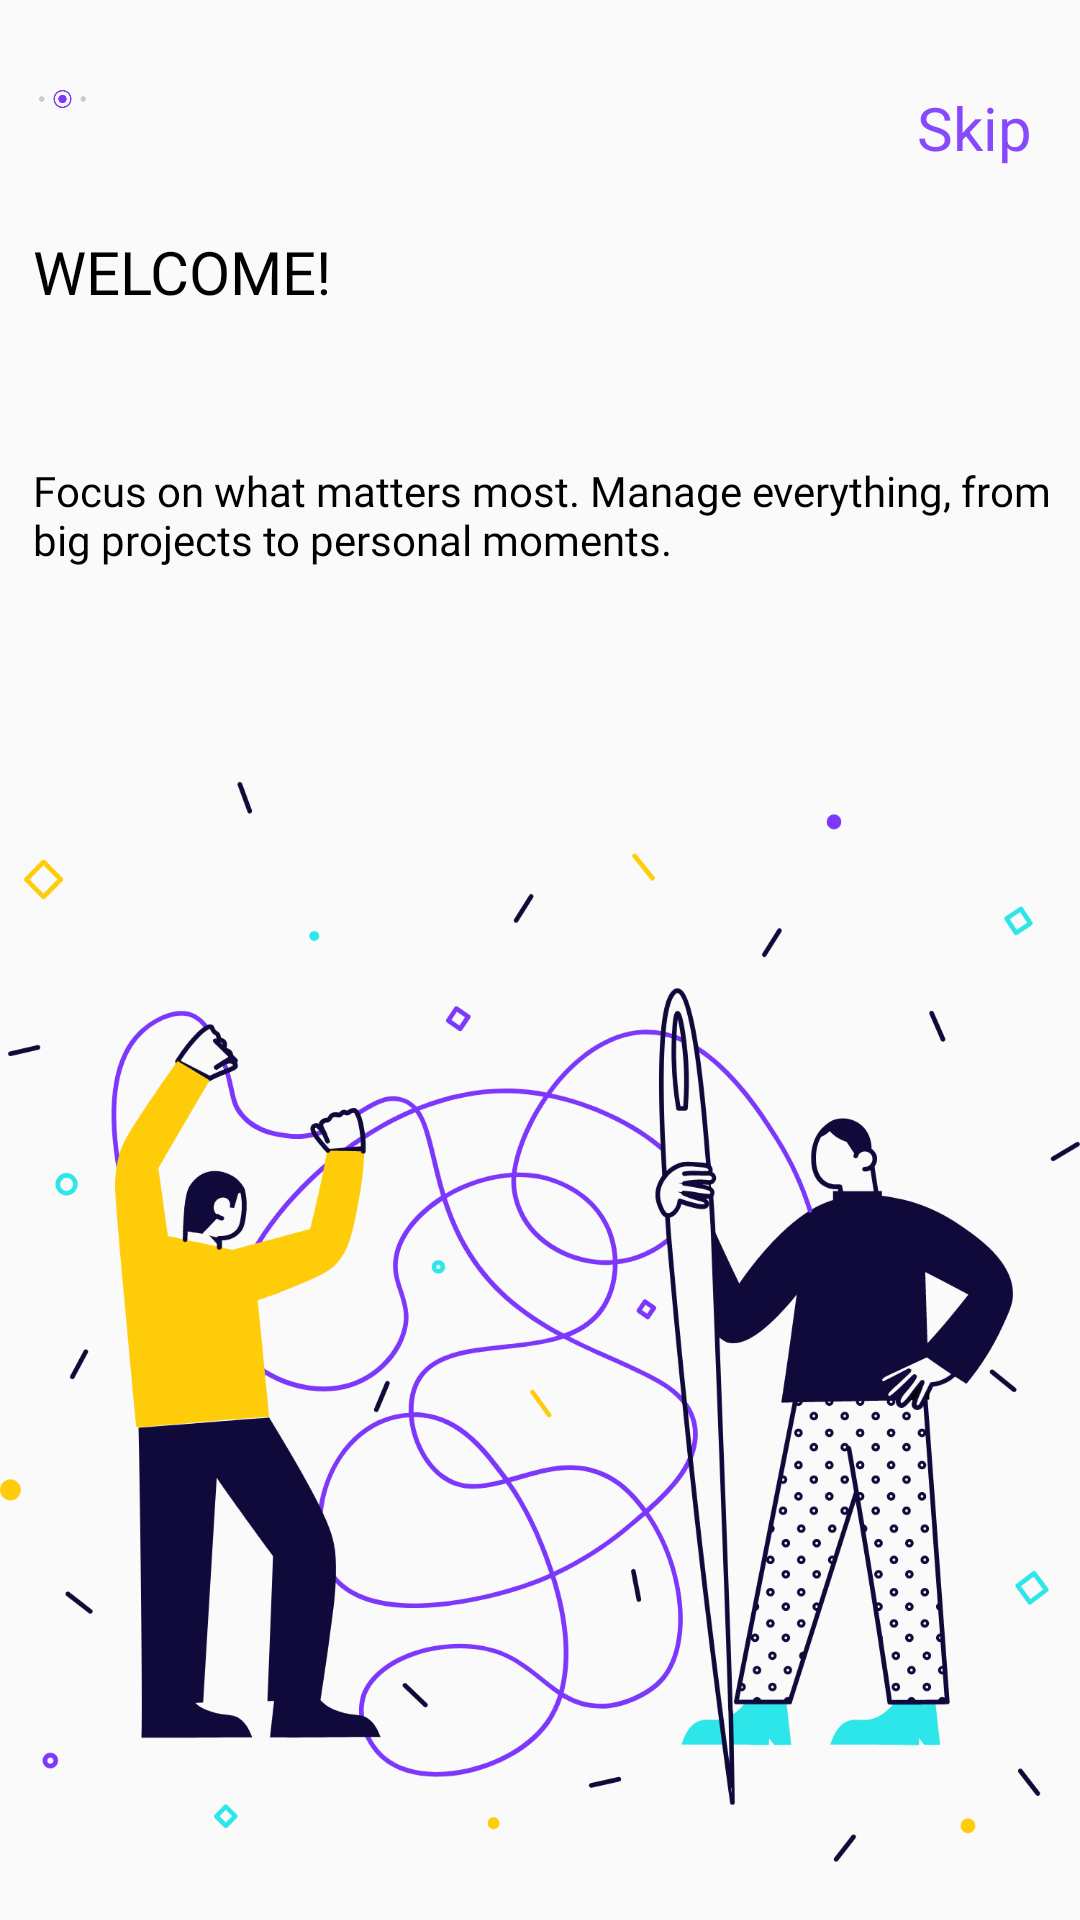

Icon click points for this 1080×1920 phone screenshot, format [x,y]:
dot: [62,99]
